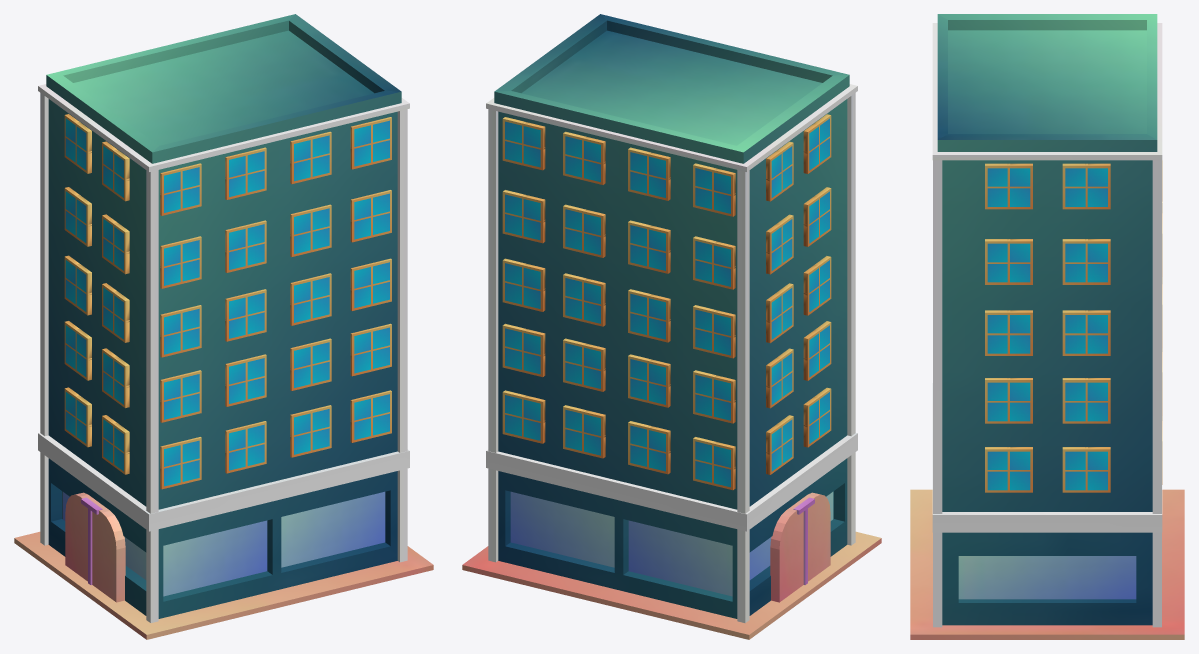
Rendered from House_18.fbx.
3 views of the same model, side by side, from view 1: azimuth 30°, elevation 25°; view 2: azimuth 150°, elevation 25°; view 3: azimuth 270°, elevation 25° (orthographic). The views are drawn at different scales.
Visible parts, largest first — view 1: House.18; view 2: House.18; view 3: House.18.
Part boxes in pixels (x1,y1,x2,y2): House.18: (14,14,433,639); House.18: (462,14,881,639); House.18: (910,14,1184,639).
Size of the model in its own units: 1430 by 2254 by 1144.
1 material, 1 textured.
